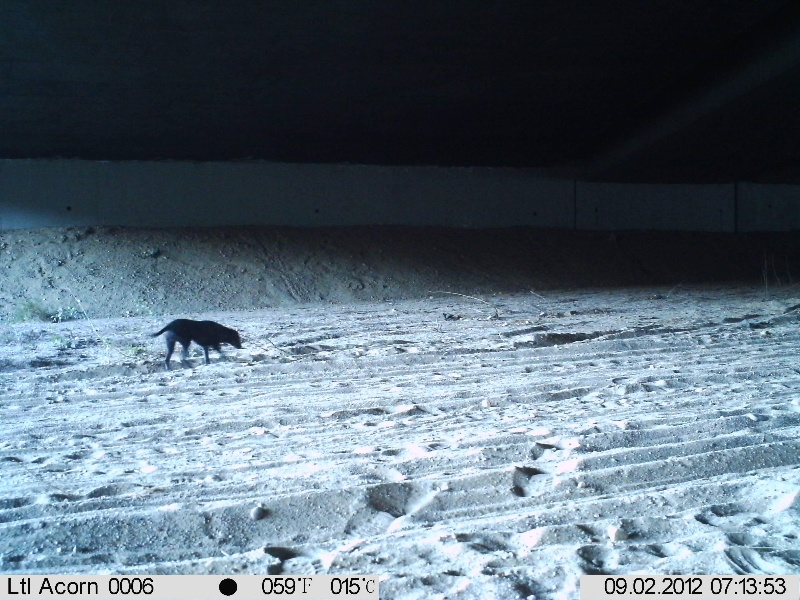dog: (146, 316, 245, 369)
